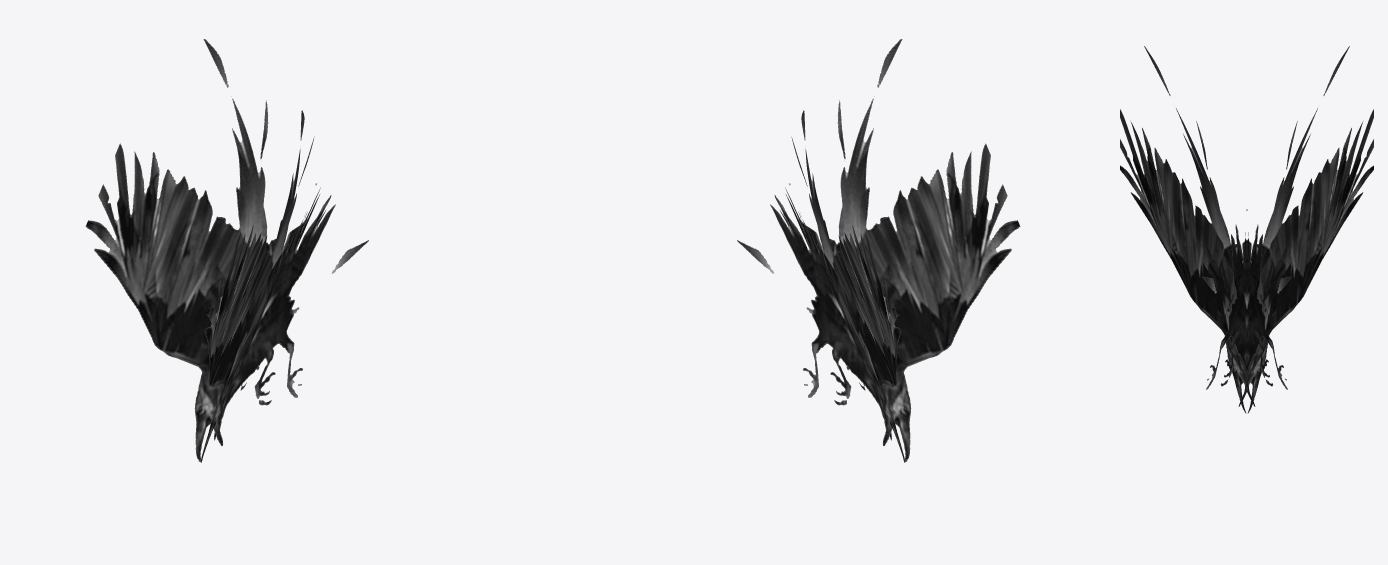
File: wy_ani.fbx
3 views of the same model, side by side, from view 1: azimuth 30°, elevation 25°; view 2: azimuth 150°, elevation 25°; view 3: azimuth 270°, elevation 25° (orthographic). The views are drawn at different scales.
Parts seen in each view (by area): view 1: wy; view 2: wy; view 3: wy.
Part boxes in pixels (x1,y1,x2,y2): wy: [85, 39, 368, 462]; wy: [737, 39, 1020, 462]; wy: [1120, 46, 1373, 413].
Bounding box in the file's own units: 186 × 207 × 96.49.
